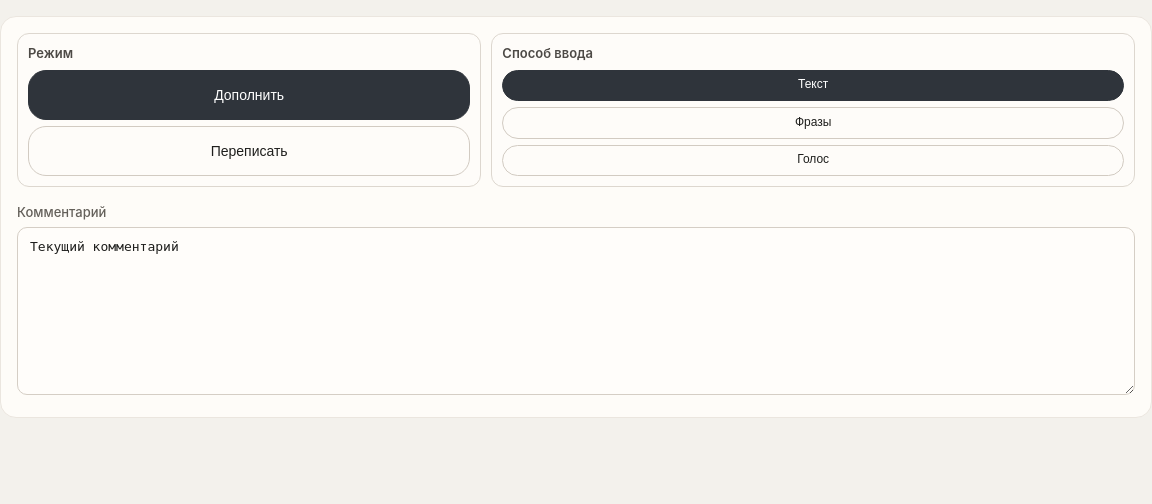
Test: CommentComposer › keeps the old comment visible as a preview after switching to rewrite before first input
Click the button "Переписать": (249, 151) [28,126,470,176]
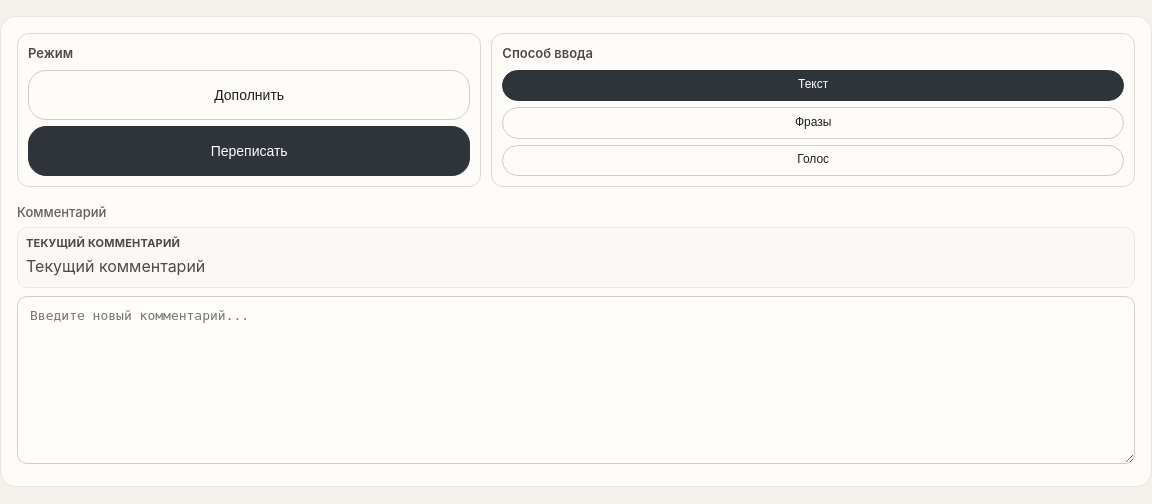
Check: the text "Текущий комментарий" is shown 2 times, box [26,236,180,250]; [26,256,205,276]
Check: the text box labelled "Комментарий" is empty, box [17,296,1135,464]
